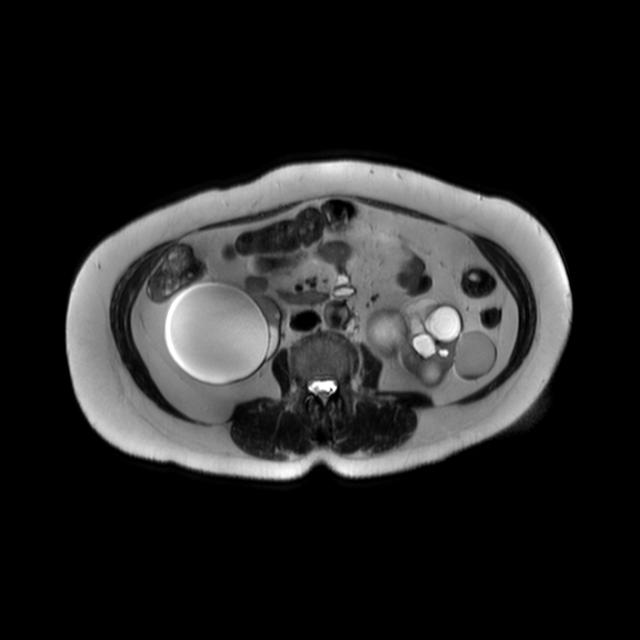sag: (163, 281, 290, 386)
sol: (366, 297, 499, 390)
